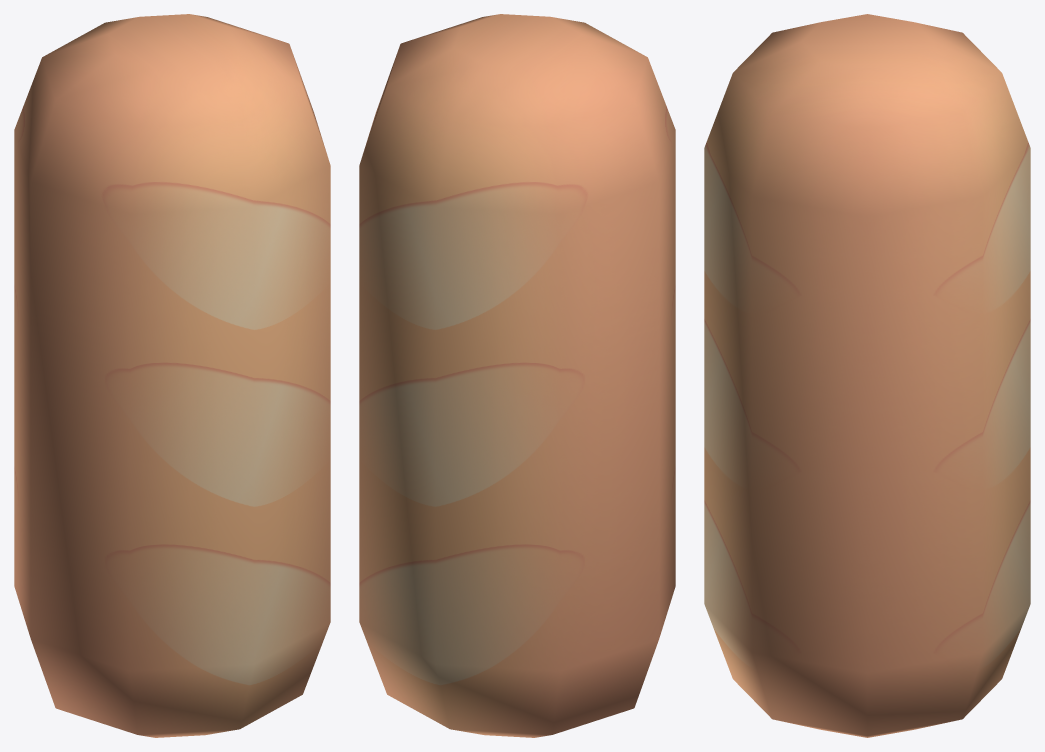
Rendered from projectile_bread.fbx.
3 renders of one model, left to right at view 1: azimuth 30°, elevation 25°; view 2: azimuth 150°, elevation 25°; view 3: azimuth 270°, elevation 25°, orthographic.
Visible parts, largest first — view 1: Cylinder.002; view 2: Cylinder.002; view 3: Cylinder.002.
Part boxes in pixels (box(x1,y1,x2,y2)): Cylinder.002: box(14, 14, 330, 737); Cylinder.002: box(359, 14, 675, 737); Cylinder.002: box(704, 14, 1030, 737).
Size of the model in its own units: 45.32 by 102 by 45.32.
